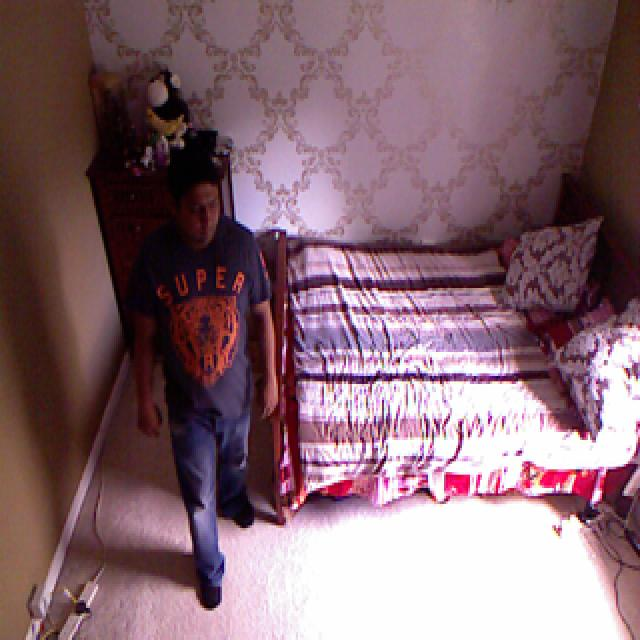standing: (126, 150, 278, 594)
